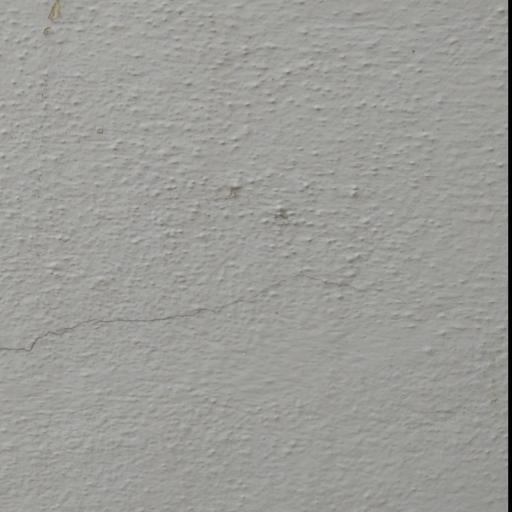minor_crack: (0, 219, 512, 413)
